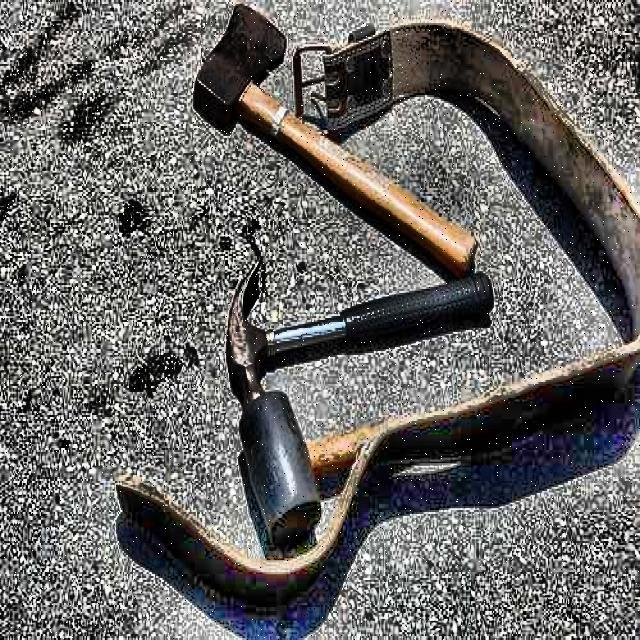hammer: (217, 259, 493, 399)
